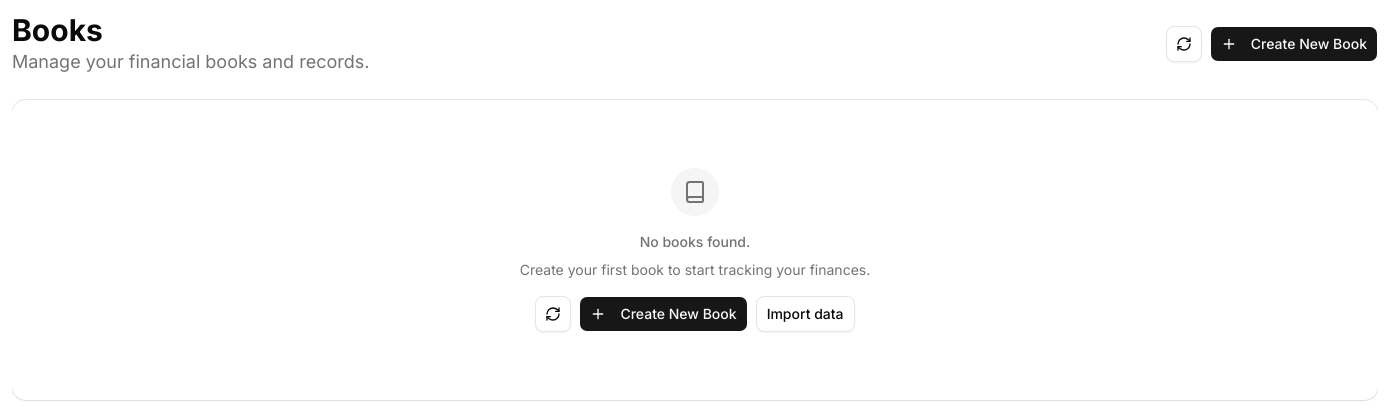
Test case: BooksPage › refreshes books when clicking the refresh button
The width and height of the screenshot is (1390, 418).
Expected: the text "No books found." is shown, [640, 233, 750, 250]
Click the button titled "Refresh books" in the row of "Manage your financial books and records.": (1184, 44) [1166, 26, 1202, 62]
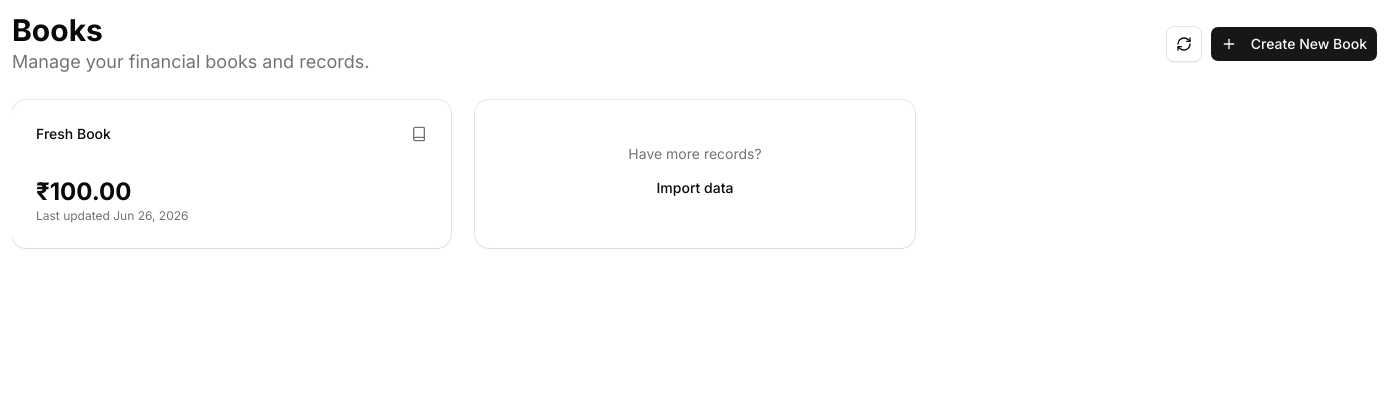
Expected: the text "Fresh Book" is shown, [36, 124, 111, 144]
